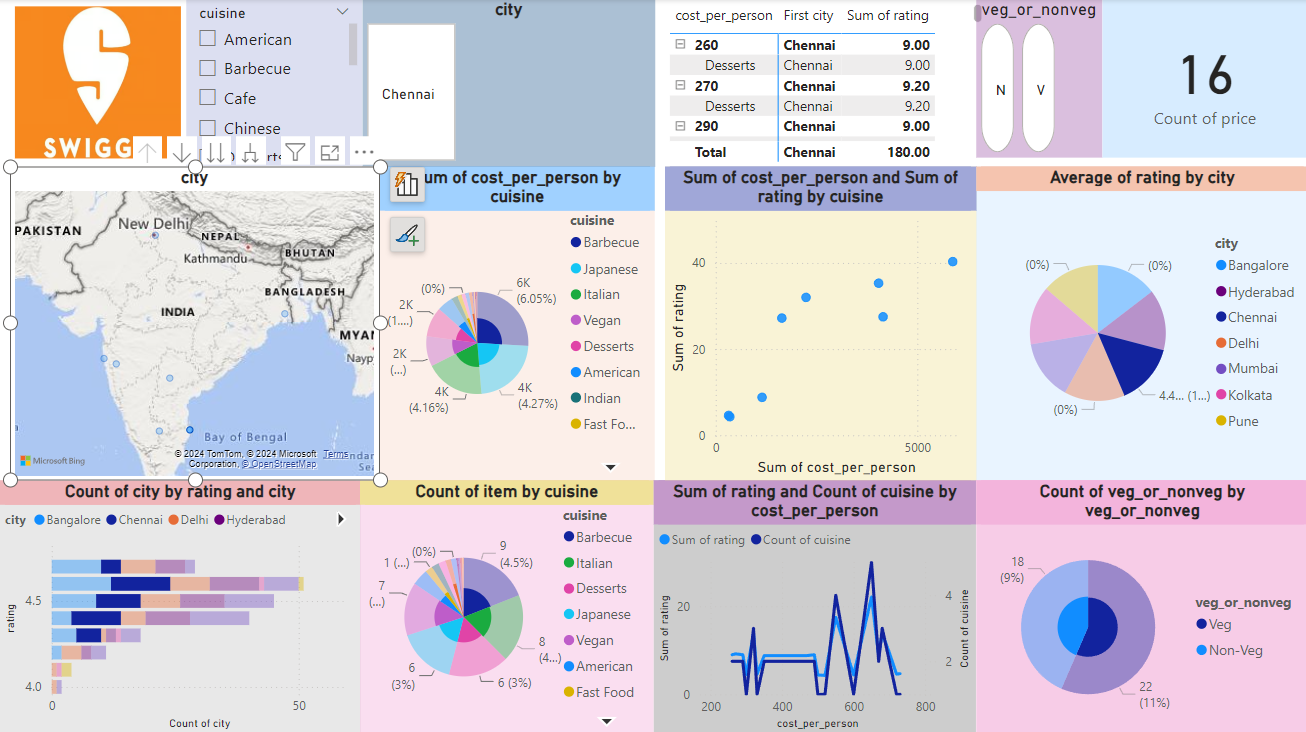

This screenshot's page, from the dashboard's own definition file:
{"tool":"powerbi","page":{"name":"Page 1","canvas":[1280,720],"ordinal":0},"visuals":[{"type":"image","box":[10,0,172.1,163.6],"z":0},{"type":"barChart","fields":{"Category":["22  Swiggy_csv.rating"],"Y":["CountNonNull(22  Swiggy_csv.city)"],"Series":["22  Swiggy_csv.city"]},"box":[0,470.8,352.7,248.9],"z":1},{"type":"pieChart","fields":{"Category":["22  Swiggy_csv.cuisine"],"Y":["CountNonNull(22  Swiggy_csv.item)"]},"box":[352.7,470.8,287.3,248.9],"z":2},{"type":"map","fields":{"Category":["22  Swiggy_csv.city","22  Swiggy_csv.rating","22  Swiggy_csv.cost_per_person"]},"box":[10,163.6,361.2,307.2],"z":3},{"type":"pieChart","fields":{"Category":["22  Swiggy_csv.cuisine"],"Y":["Sum(22  Swiggy_csv.cost_per_person)"]},"box":[371.2,163.6,268.8,307.2],"z":4},{"type":"slicer","fields":{"Values":["22  Swiggy_csv.cuisine"]},"box":[182,0,172.1,163.6],"z":5},{"type":"advancedSlicerVisual","fields":{"Values":["22  Swiggy_csv.city"]},"box":[354.6,0,286.1,163.9],"z":6},{"type":"pivotTable","fields":{"Rows":["22  Swiggy_csv.cost_per_person","22  Swiggy_csv.cuisine"],"Values":["Min(22  Swiggy_csv.city)","Sum(22  Swiggy_csv.rating)"]},"box":[650.5,0,315.5,163.9],"z":7},{"type":"lineChart","fields":{"Y":["Sum(22  Swiggy_csv.rating)"],"Category":["22  Swiggy_csv.cost_per_person"],"Y2":["CountNonNull(22  Swiggy_csv.cuisine)"]},"box":[639.5,470.8,315.5,249.5],"z":8},{"type":"scatterChart","fields":{"X":["Sum(22  Swiggy_csv.cost_per_person)"],"Y":["Sum(22  Swiggy_csv.rating)"],"Category":["22  Swiggy_csv.cuisine"]},"box":[650.5,163.9,304.5,306.9],"z":9},{"type":"pieChart","fields":{"Y":["Avg(22  Swiggy_csv.rating)"],"Category":["22  Swiggy_csv.city"]},"box":[955,163.9,325.3,306.9],"z":10},{"type":"advancedSlicerVisual","fields":{"Values":["22  Swiggy_csv.veg_or_nonveg"]},"box":[955,0,123.5,155.3],"z":11},{"type":"pieChart","fields":{"Category":["22  Swiggy_csv.veg_or_nonveg"],"Y":["CountNonNull(22  Swiggy_csv.veg_or_nonveg)"]},"box":[955,470.8,325.3,249.5],"z":12},{"type":"card","fields":{"Values":["Count(22  Swiggy_csv.price)"]},"box":[1079,0,201,155],"z":13}]}

Visuals, with their boxes on the page's 1280x720 design canvas (x1, y1, x2, y2). These are canvas units, not pixel positions in the 1306x732 screenshot, which may show the page scaled, cropped or inside an application window:
image: l=10, t=0, r=182, b=164
barChart - 22  Swiggy_csv.rating x CountNonNull(22  Swiggy_csv.city): l=0, t=471, r=353, b=720
pieChart - 22  Swiggy_csv.cuisine x CountNonNull(22  Swiggy_csv.item): l=353, t=471, r=640, b=720
map - 22  Swiggy_csv.city x 22  Swiggy_csv.rating: l=10, t=164, r=371, b=471
pieChart - 22  Swiggy_csv.cuisine x Sum(22  Swiggy_csv.cost_per_person): l=371, t=164, r=640, b=471
slicer - 22  Swiggy_csv.cuisine: l=182, t=0, r=354, b=164
advancedSlicerVisual - 22  Swiggy_csv.city: l=355, t=0, r=641, b=164
pivotTable - 22  Swiggy_csv.cost_per_person x 22  Swiggy_csv.cuisine: l=650, t=0, r=966, b=164
lineChart - Sum(22  Swiggy_csv.rating) x 22  Swiggy_csv.cost_per_person: l=640, t=471, r=955, b=720
scatterChart - Sum(22  Swiggy_csv.cost_per_person) x Sum(22  Swiggy_csv.rating): l=650, t=164, r=955, b=471
pieChart - Avg(22  Swiggy_csv.rating) x 22  Swiggy_csv.city: l=955, t=164, r=1280, b=471
advancedSlicerVisual - 22  Swiggy_csv.veg_or_nonveg: l=955, t=0, r=1078, b=155
pieChart - 22  Swiggy_csv.veg_or_nonveg x CountNonNull(22  Swiggy_csv.veg_or_nonveg): l=955, t=471, r=1280, b=720
card - Count(22  Swiggy_csv.price): l=1079, t=0, r=1280, b=155
